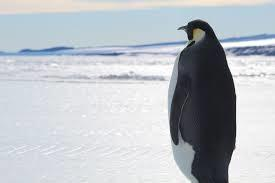emporer: (158, 19, 247, 183)
